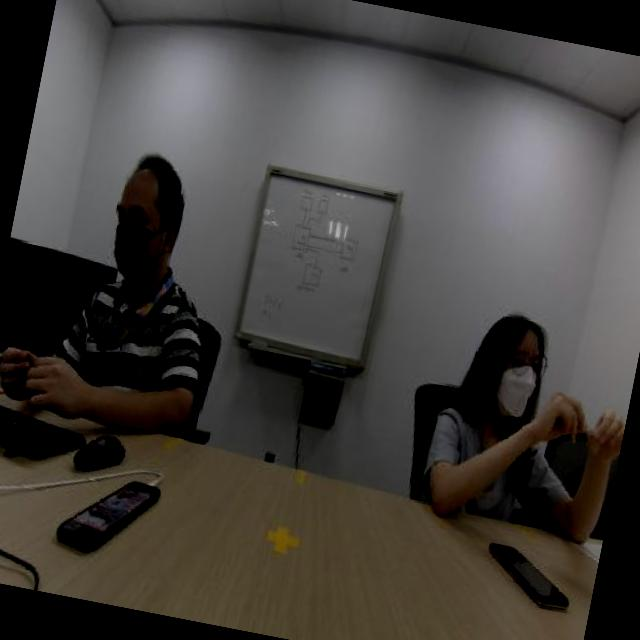Person: (68, 105, 244, 440), (402, 272, 598, 538)
